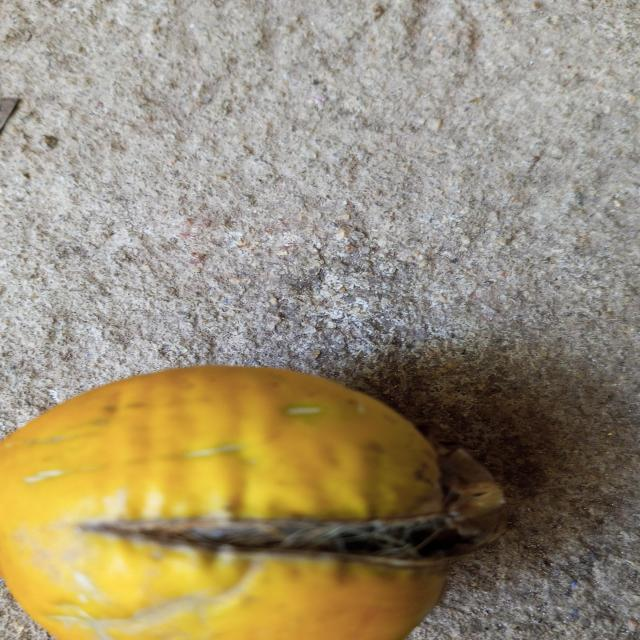damaged: (0, 366, 502, 640)
